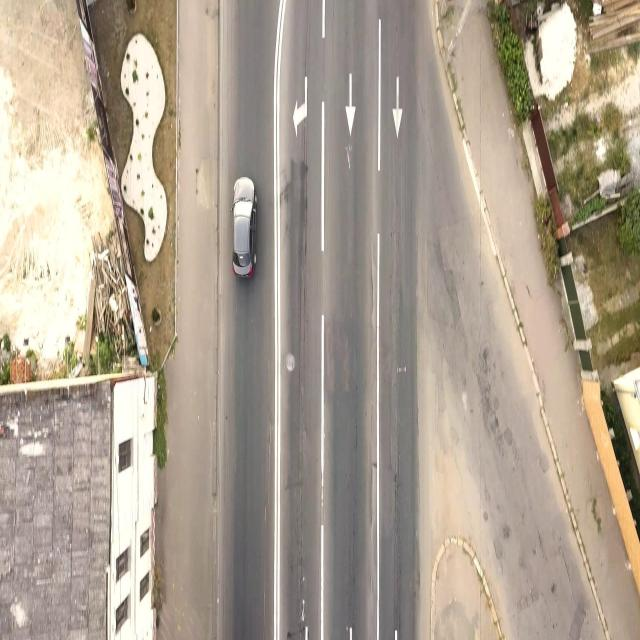Car: (222, 168, 266, 280)
